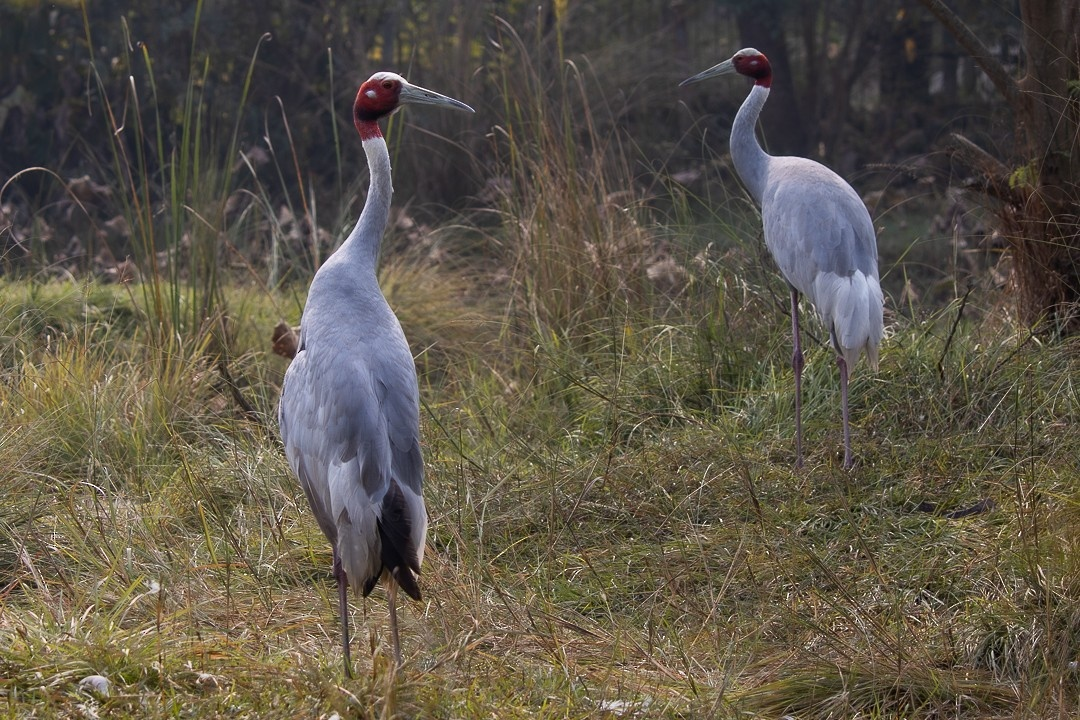crane: (279, 69, 480, 675), (680, 39, 902, 480)
